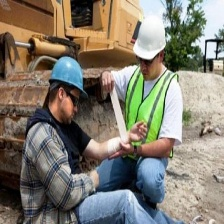helmet: (47, 55, 89, 99), (131, 16, 170, 61)
no-vest: (21, 123, 86, 224)
person: (112, 16, 185, 212), (20, 57, 102, 224)
vest: (115, 66, 175, 160)
